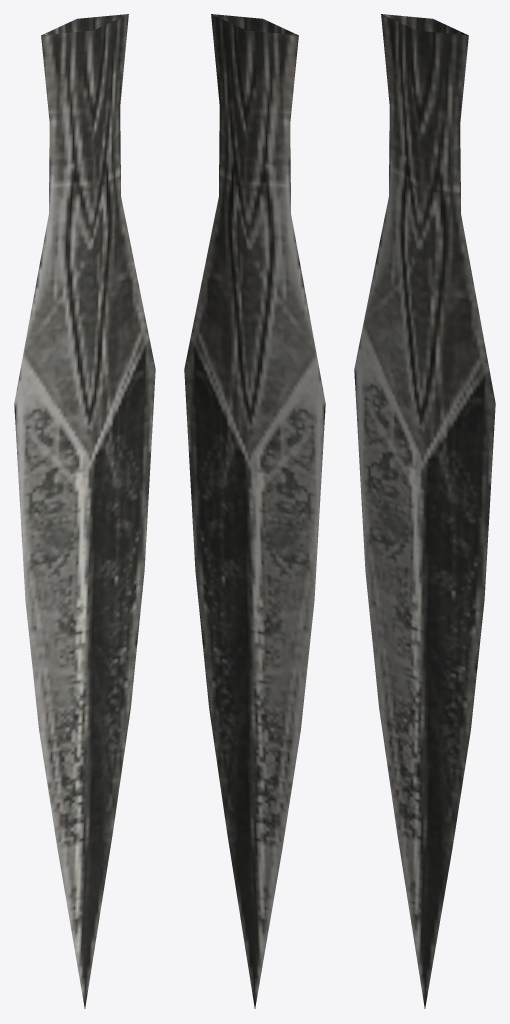
Rendered from Kuorenduanjian_body.FBX.
The picture shows the model from 3 angles, left to right: view 1: azimuth 30°, elevation 25°; view 2: azimuth 150°, elevation 25°; view 3: azimuth 330°, elevation 25°; orthographic projection.
Parts seen in each view (by area): view 1: kuorenduanjian_body; view 2: kuorenduanjian_body; view 3: kuorenduanjian_body.
Boxes of the visible parts, x1=… form: kuorenduanjian_body: x1=14, y1=14, x2=155, y2=1008; kuorenduanjian_body: x1=184, y1=14, x2=325, y2=1008; kuorenduanjian_body: x1=354, y1=14, x2=495, y2=1008.
Size of the model in its own units: 9.76 by 64.99 by 1.93.
Materials: 1 (1 with a texture image).
